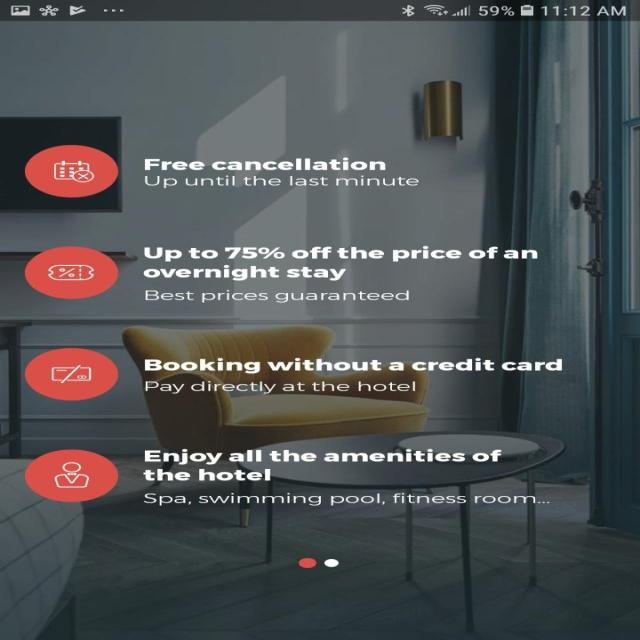BackgroundImage: (0, 21, 639, 639)
Icon: (24, 347, 119, 400), (24, 449, 118, 502), (24, 246, 118, 299), (24, 145, 118, 198)
Text: (142, 448, 550, 505), (141, 245, 537, 303), (143, 357, 562, 394), (143, 157, 419, 188)
